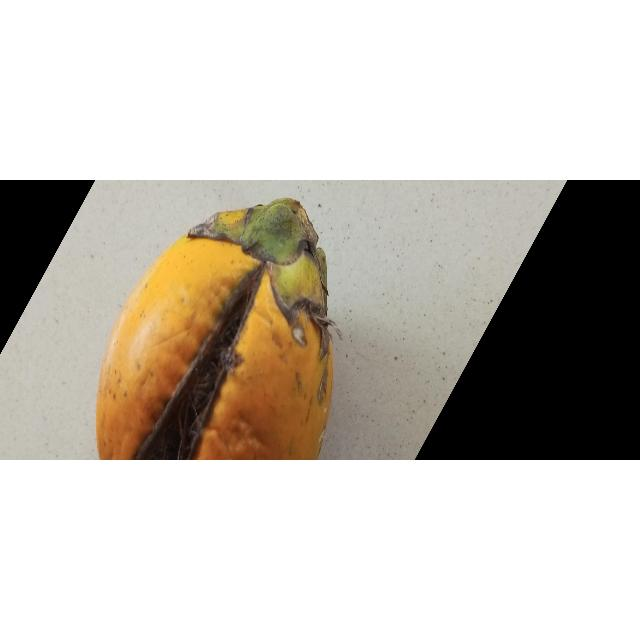damaged: (94, 199, 334, 461)
